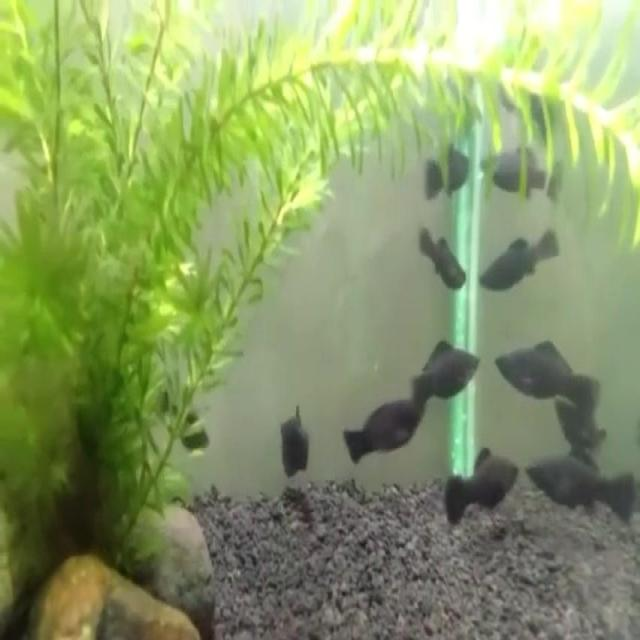PlatyFish: (522, 438, 638, 542), (489, 330, 606, 425), (442, 438, 522, 538), (474, 223, 562, 302), (410, 334, 479, 410), (414, 208, 469, 300), (344, 398, 424, 458)
